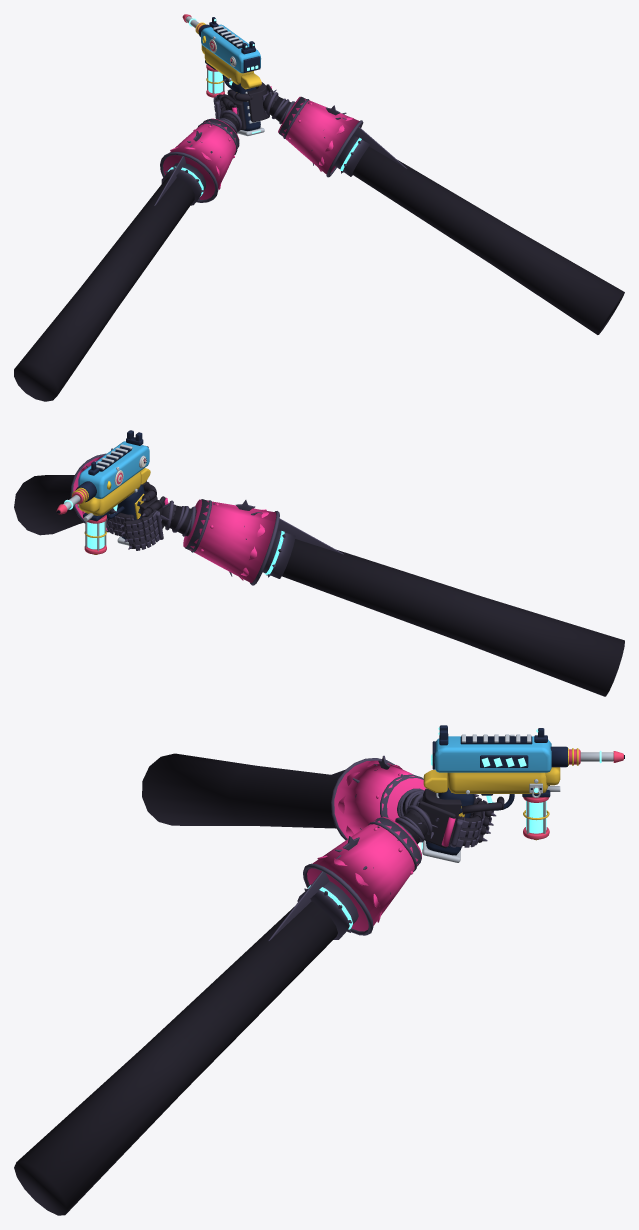
File: dunk_tank.glb
3 renders of one model, top to bottom at view 1: azimuth 30°, elevation 25°; view 2: azimuth 150°, elevation 25°; view 3: azimuth 270°, elevation 25°, orthographic. The views are drawn at different scales.
Parts seen in each view (by area): view 1: ArmR, ArmL, ArmRKitBell, Shell, ArmLKitBell; view 2: ArmL, ArmLKitBell, Shell, ArmR, ArmLKitGauntlet, ArmLKitFins, ArmLKitWraps, Cell, Water, ArmRKitBell; view 3: ArmR, ArmL, Shell, ArmRKitBell, ArmLKitBell, ArmRKitMitten, ArmRKitGauntlet, ArmRKitFins.
Part boxes in pixels (left/top/right/bottom): ArmR: left=225, top=77, right=624, bottom=334; ArmL: left=14, top=94, right=246, bottom=401; ArmRKitBell: left=278, top=96, right=363, bottom=177; Shell: left=182, top=14, right=264, bottom=136; ArmLKitBell: left=160, top=118, right=239, bottom=202; ArmL: left=122, top=496, right=624, bottom=696; ArmLKitBell: left=183, top=499, right=279, bottom=585; Shell: left=56, top=441, right=150, bottom=545; ArmR: left=14, top=475, right=156, bottom=535; ArmLKitGauntlet: left=126, top=499, right=218, bottom=551; ArmLKitFins: left=160, top=512, right=343, bottom=554; ArmLKitWraps: left=156, top=500, right=195, bottom=539; Cell: left=84, top=515, right=106, bottom=554; Water: left=87, top=522, right=104, bottom=549; ArmRKitBell: left=70, top=448, right=146, bottom=532; ArmR: left=14, top=788, right=504, bottom=1215; ArmL: left=142, top=753, right=492, bottom=842; Shell: left=421, top=734, right=624, bottom=862; ArmRKitBell: left=303, top=817, right=421, bottom=935; ArmLKitBell: left=331, top=755, right=426, bottom=840; ArmRKitMitten: left=418, top=801, right=455, bottom=848; ArmRKitGauntlet: left=373, top=802, right=484, bottom=874; ArmRKitFins: left=268, top=824, right=437, bottom=940.
Bounding box in the file's own units: 2.26 × 0.927 × 1.52.
